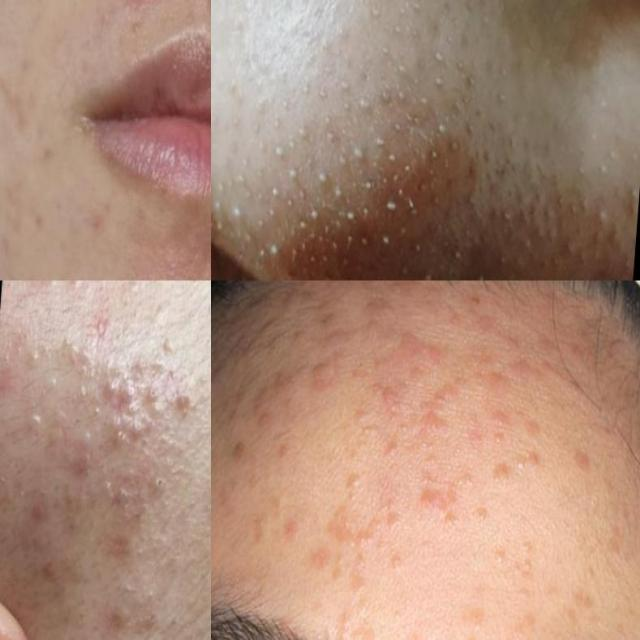acne_scars: (104, 527, 135, 560)
comedone: (408, 154, 609, 280), (314, 138, 436, 280), (421, 0, 525, 139), (285, 96, 371, 232), (342, 41, 420, 139), (246, 131, 318, 222), (211, 184, 281, 268), (356, 0, 428, 31), (106, 411, 154, 457), (348, 406, 385, 446), (435, 571, 471, 608), (149, 464, 180, 504), (352, 408, 382, 448), (78, 424, 98, 472), (486, 544, 511, 582), (67, 342, 102, 366), (121, 379, 143, 417), (26, 405, 49, 439), (384, 548, 408, 580), (384, 426, 408, 456), (488, 426, 515, 452), (160, 330, 181, 359), (87, 397, 108, 425), (116, 484, 135, 514), (395, 414, 413, 441), (419, 464, 436, 490), (54, 402, 71, 426), (402, 627, 428, 640), (28, 344, 40, 367), (146, 382, 158, 404), (65, 281, 84, 294), (462, 631, 480, 640)
flat_wart: (213, 345, 287, 475), (298, 280, 395, 360), (276, 492, 332, 576), (418, 374, 476, 446), (481, 399, 550, 454), (485, 528, 551, 580), (485, 342, 548, 396), (439, 464, 482, 542), (315, 501, 379, 551), (298, 347, 346, 413), (364, 371, 418, 421), (399, 314, 439, 372), (323, 605, 381, 640), (485, 460, 522, 500), (342, 460, 368, 504), (382, 505, 406, 535)
papule: (40, 545, 66, 592), (170, 385, 194, 420), (21, 495, 50, 522), (108, 604, 127, 636)
pustule: (8, 0, 56, 17)
